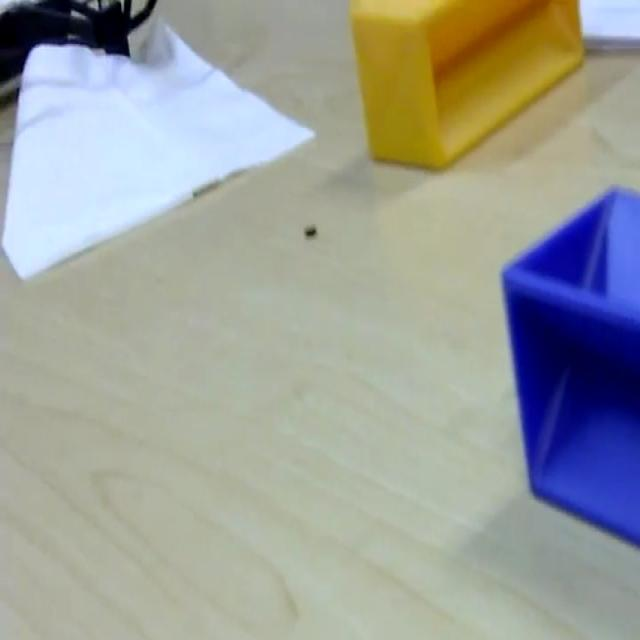blue_block: (499, 181, 638, 547)
yellow_block: (348, 0, 584, 169)
